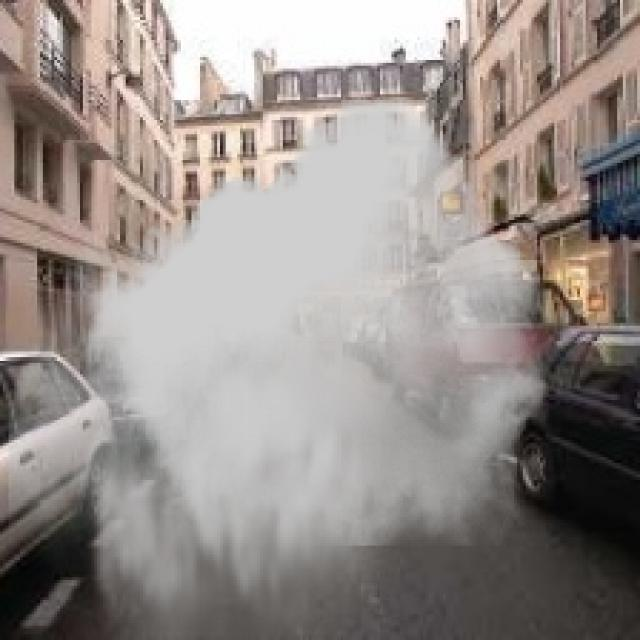smoke: (9, 97, 552, 637)
